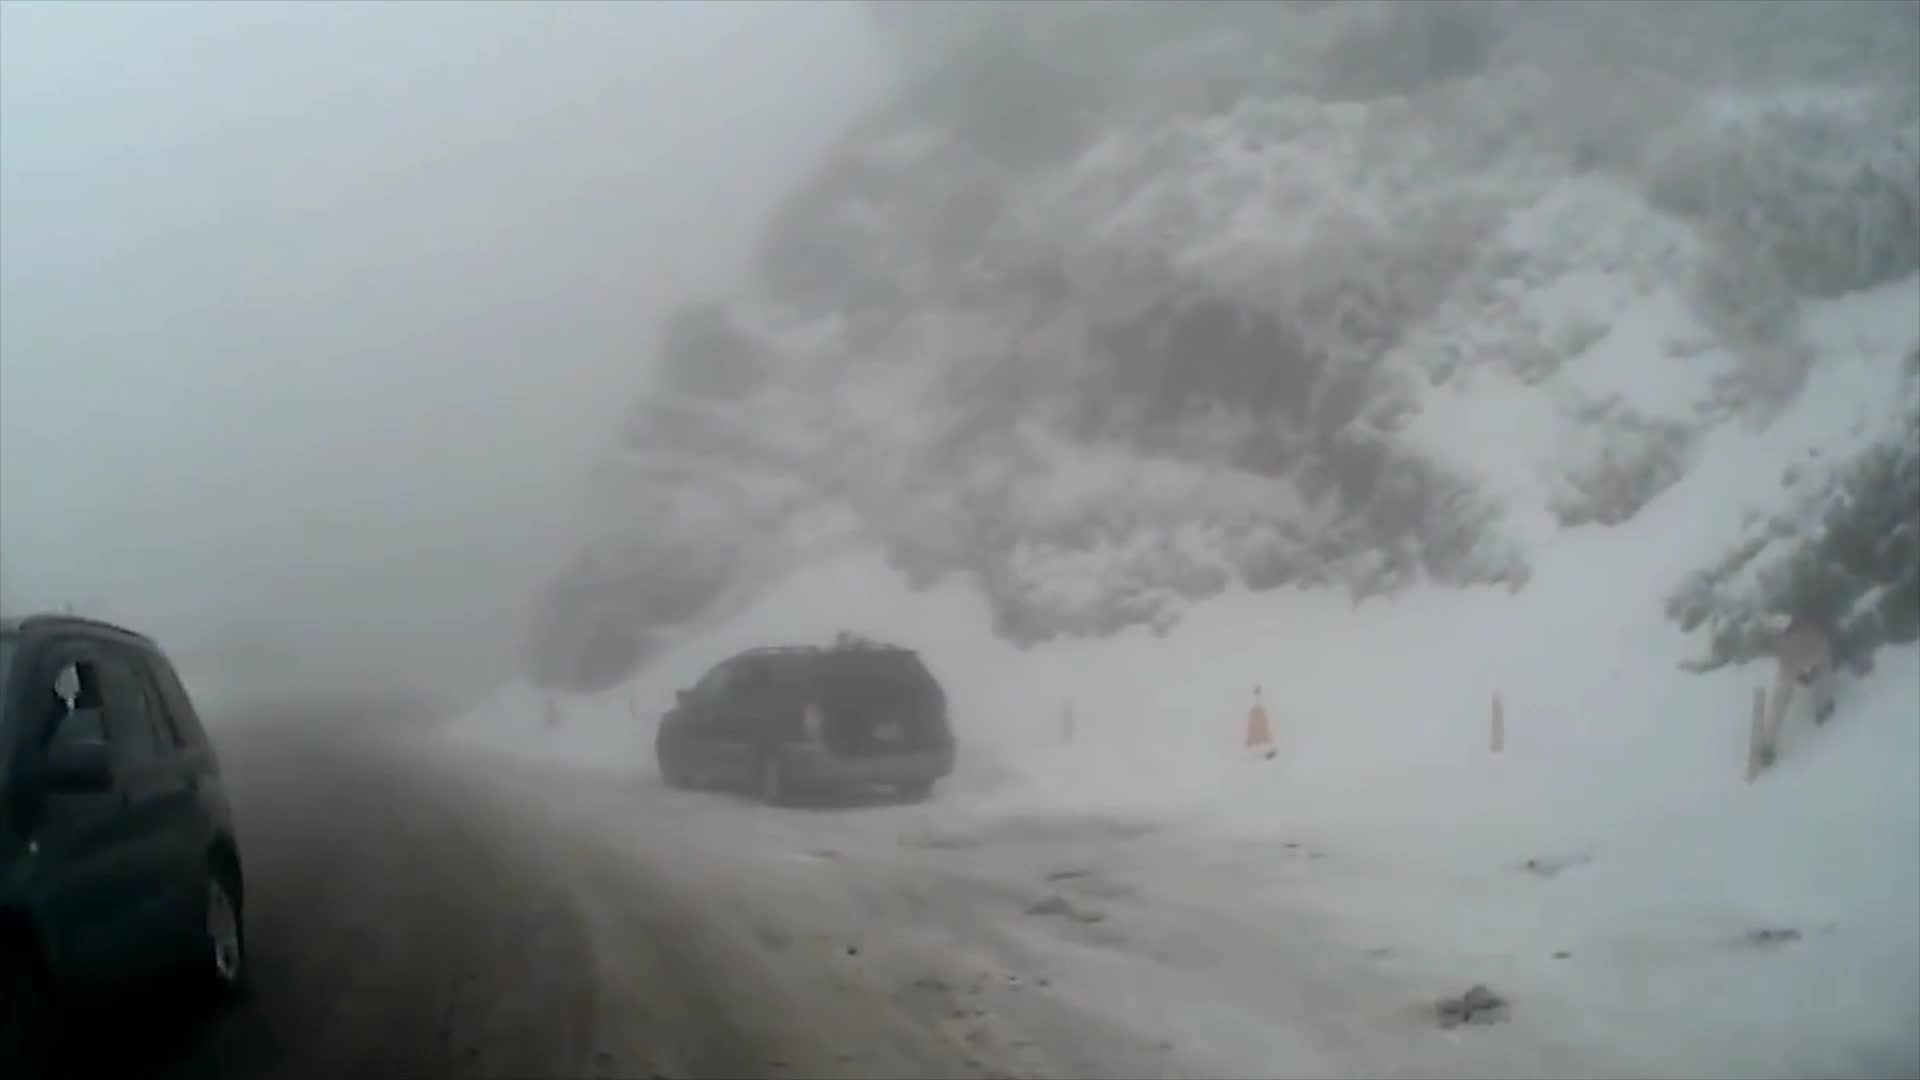vehicle: (0, 611, 249, 1080), (655, 642, 955, 804)
